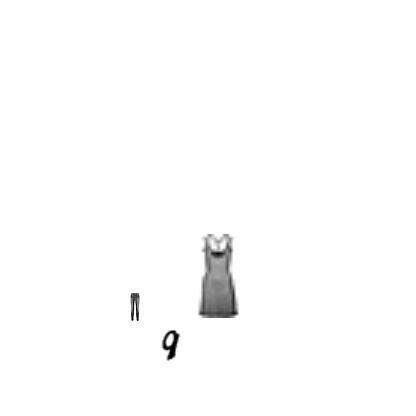1: (6, 262, 28, 284)
6: (220, 29, 248, 57)
Ankle_boot: (62, 155, 90, 183)
Bag: (284, 225, 312, 253)
Coat: (261, 142, 275, 156)
Dress: (4, 352, 26, 374)
Shirt: (44, 328, 72, 356)
Sneaker: (99, 207, 141, 249)
